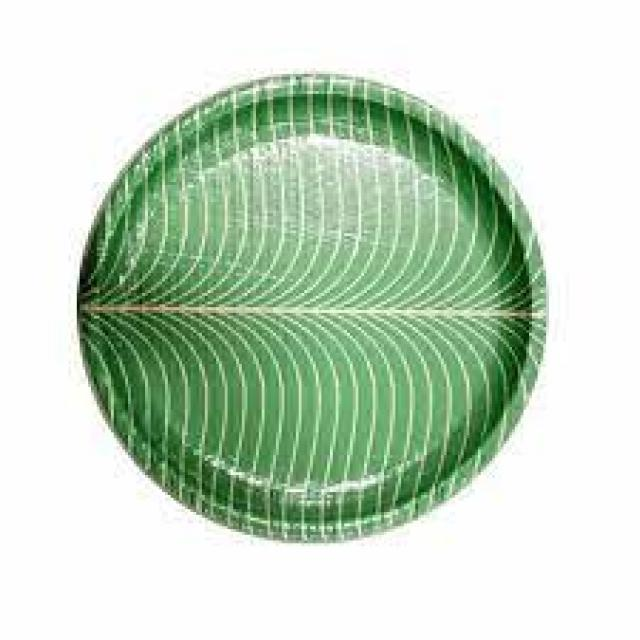Paper -Biodegradable-: (78, 73, 547, 545)
